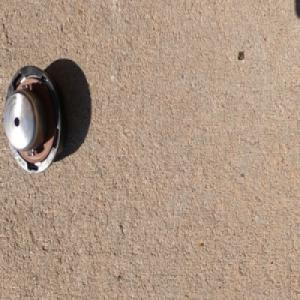FuelCap: (2, 63, 66, 179)
